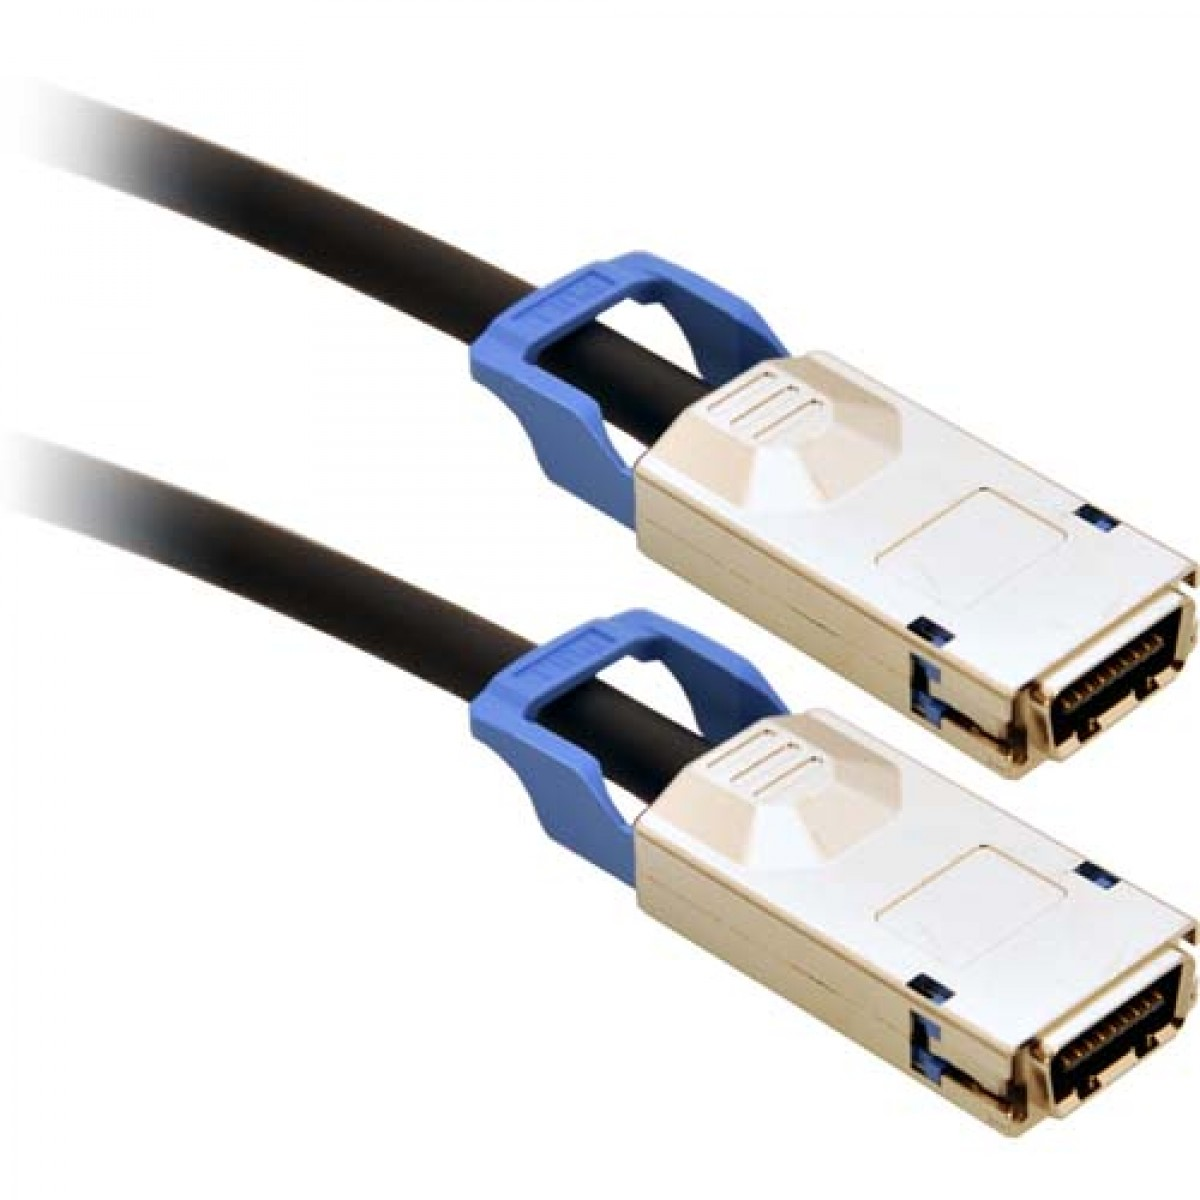Nonrec_Tangler: (62, 93, 1170, 1114)
